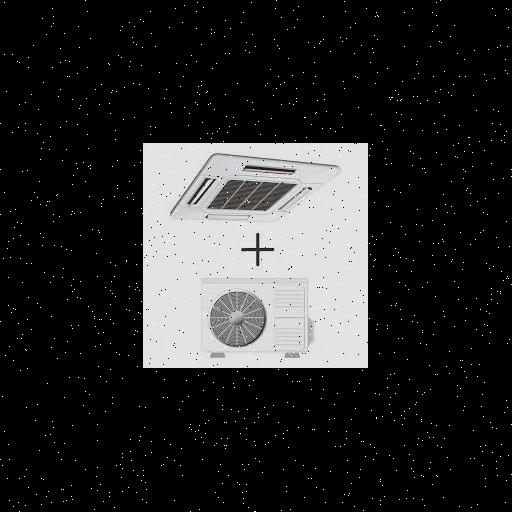4-way-ac: (171, 154, 342, 222)
